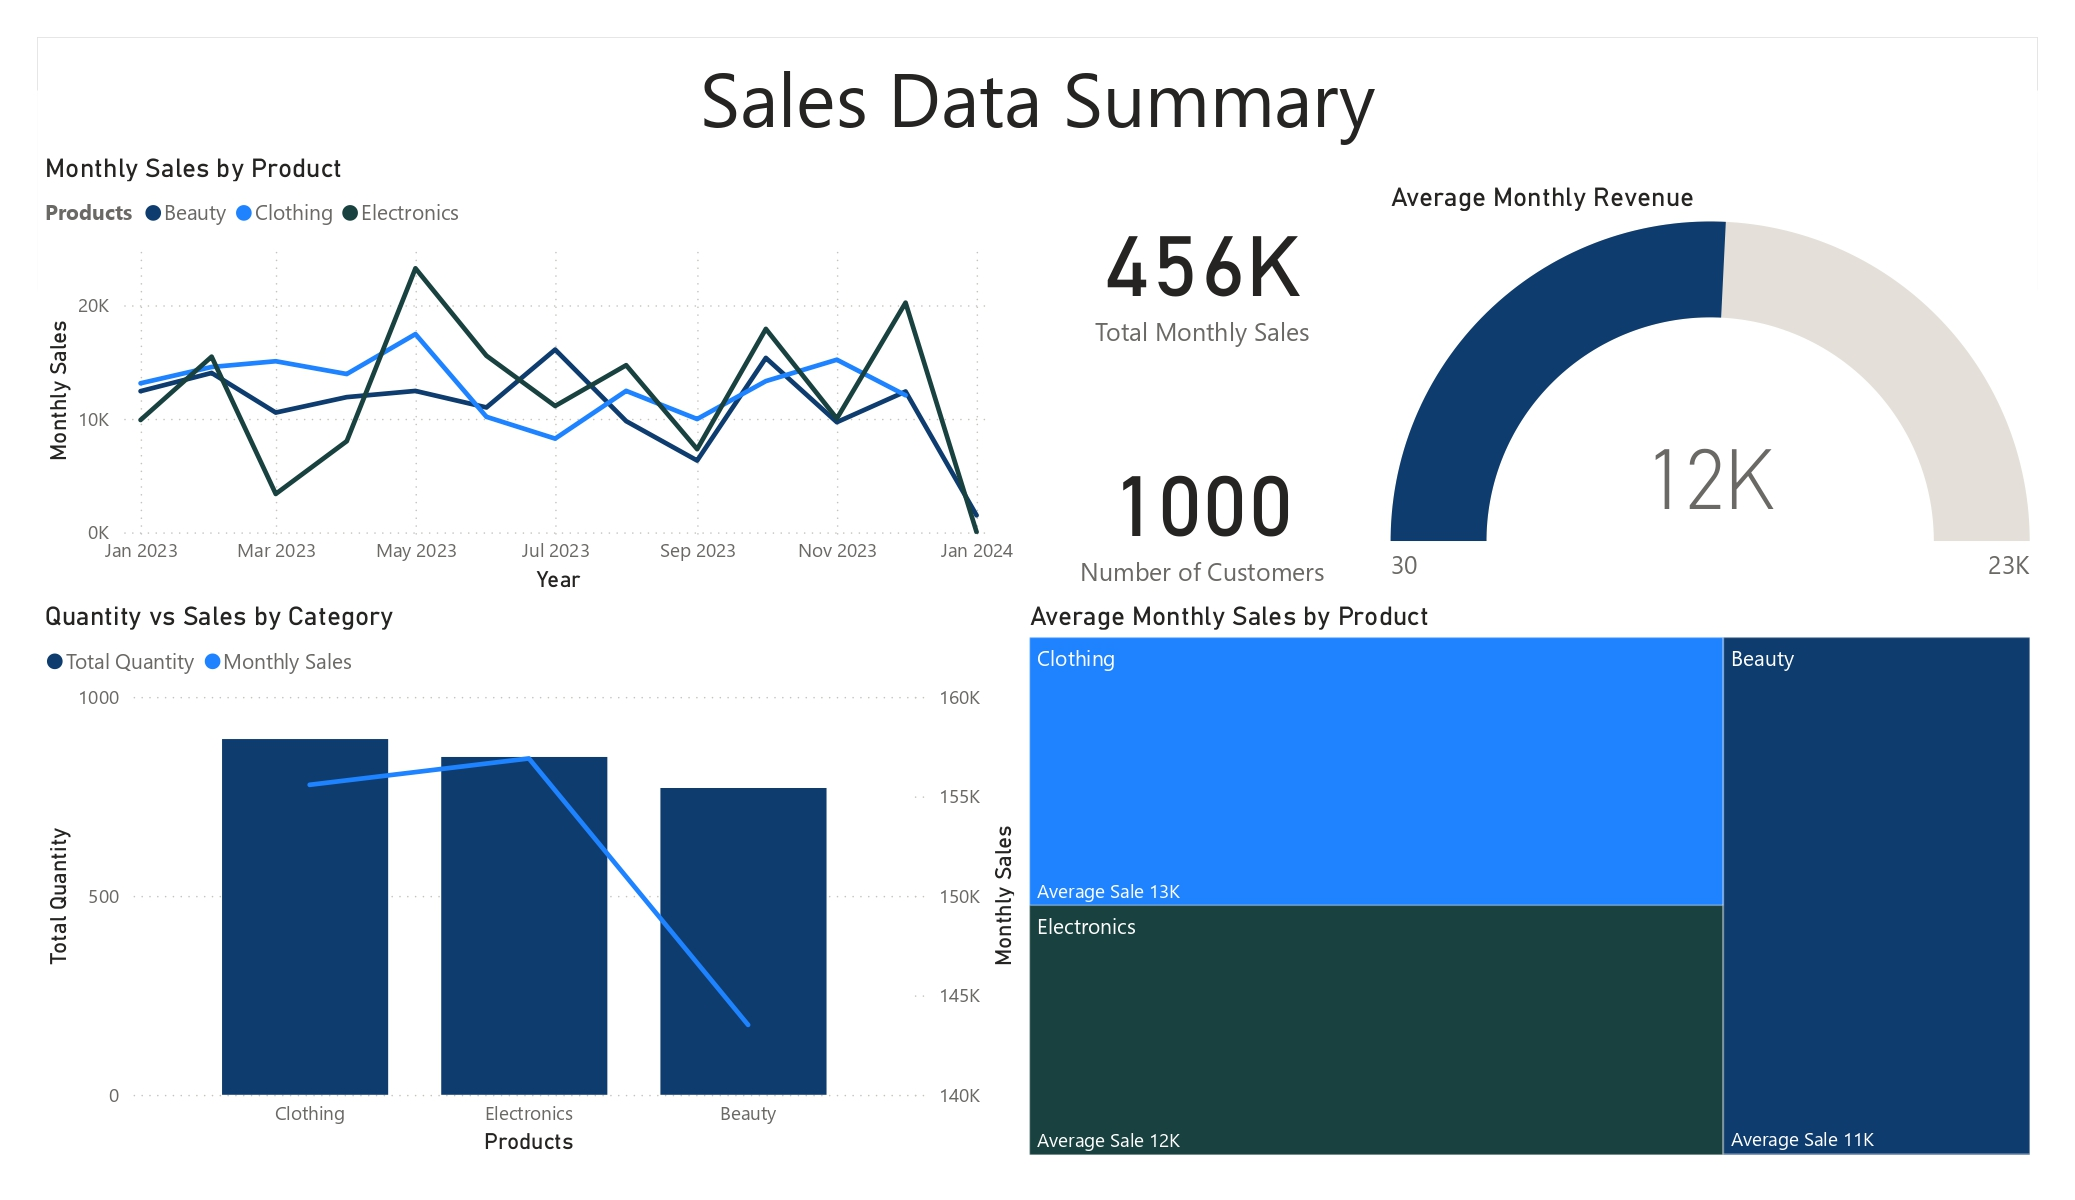

The page's visual inventory and layout, read from the dashboard file:
{"tool":"powerbi","page":{"name":"Page 1","canvas":[1280,720],"ordinal":0},"visuals":[{"type":"textbox","box":[0,0,1280,73.9],"z":0},{"type":"gauge","title":"Average Monthly Revenue","fields":{"Y":["Avg(sales_summary.MonthlySales)"],"MinValue":["Min(sales_summary.MonthlySales)"],"MaxValue":["Max(sales_summary.MonthlySales)"]},"box":[861.2,91.8,419.3,268.2],"z":1000},{"type":"lineStackedColumnComboChart","title":"Quantity vs Sales by Category","fields":{"Y":["Sum(sales_summary.TotalQuantity)"],"Category":["sales_summary.ProductCategory"],"Y2":["Sum(sales_summary.MonthlySales)"]},"box":[0,360,629.6,360],"z":2000},{"type":"card","fields":{"Values":["Sum(sales_summary.UniqueCustomers)"]},"box":[629.6,227.3,231.5,152.5],"z":3000},{"type":"card","fields":{"Values":["Sum(sales_summary.MonthlySales)"]},"box":[629.6,73.4,231.5,153.9],"z":4000},{"type":"lineChart","title":"Monthly Sales by Product","fields":{"Y":["Sum(sales_summary.MonthlySales)"],"Category":["sales_summary.MonthYear.Variation.Date Hierarchy.Year","sales_summary.MonthYear.Variation.Date Hierarchy.Quarter","sales_summary.MonthYear.Variation.Date Hierarchy.Month"],"Series":["sales_summary.ProductCategory"]},"box":[0,73.4,629.6,286.6],"z":5000},{"type":"treemap","title":"Average Monthly Sales by Product","fields":{"Values":["CountNonNull(sales_summary.TotalQuantity)","Avg(sales_summary.MonthlySales)"],"Group":["sales_summary.ProductCategory"]},"box":[629.6,360,650.8,360],"z":6000}]}

Visuals, with their boxes on the page's 1280x720 design canvas (x1, y1, x2, y2). These are canvas units, not pixel positions in the 2075x1200 screenshot, which may show the page scaled, cropped or inside an application window:
textbox: l=0, t=0, r=1280, b=74
"Average Monthly Revenue" gauge: l=861, t=92, r=1280, b=360
"Quantity vs Sales by Category" lineStackedColumnComboChart: l=0, t=360, r=630, b=720
card - Sum(sales_summary.UniqueCustomers): l=630, t=227, r=861, b=380
card - Sum(sales_summary.MonthlySales): l=630, t=73, r=861, b=227
"Monthly Sales by Product" lineChart: l=0, t=73, r=630, b=360
"Average Monthly Sales by Product" treemap: l=630, t=360, r=1280, b=720
